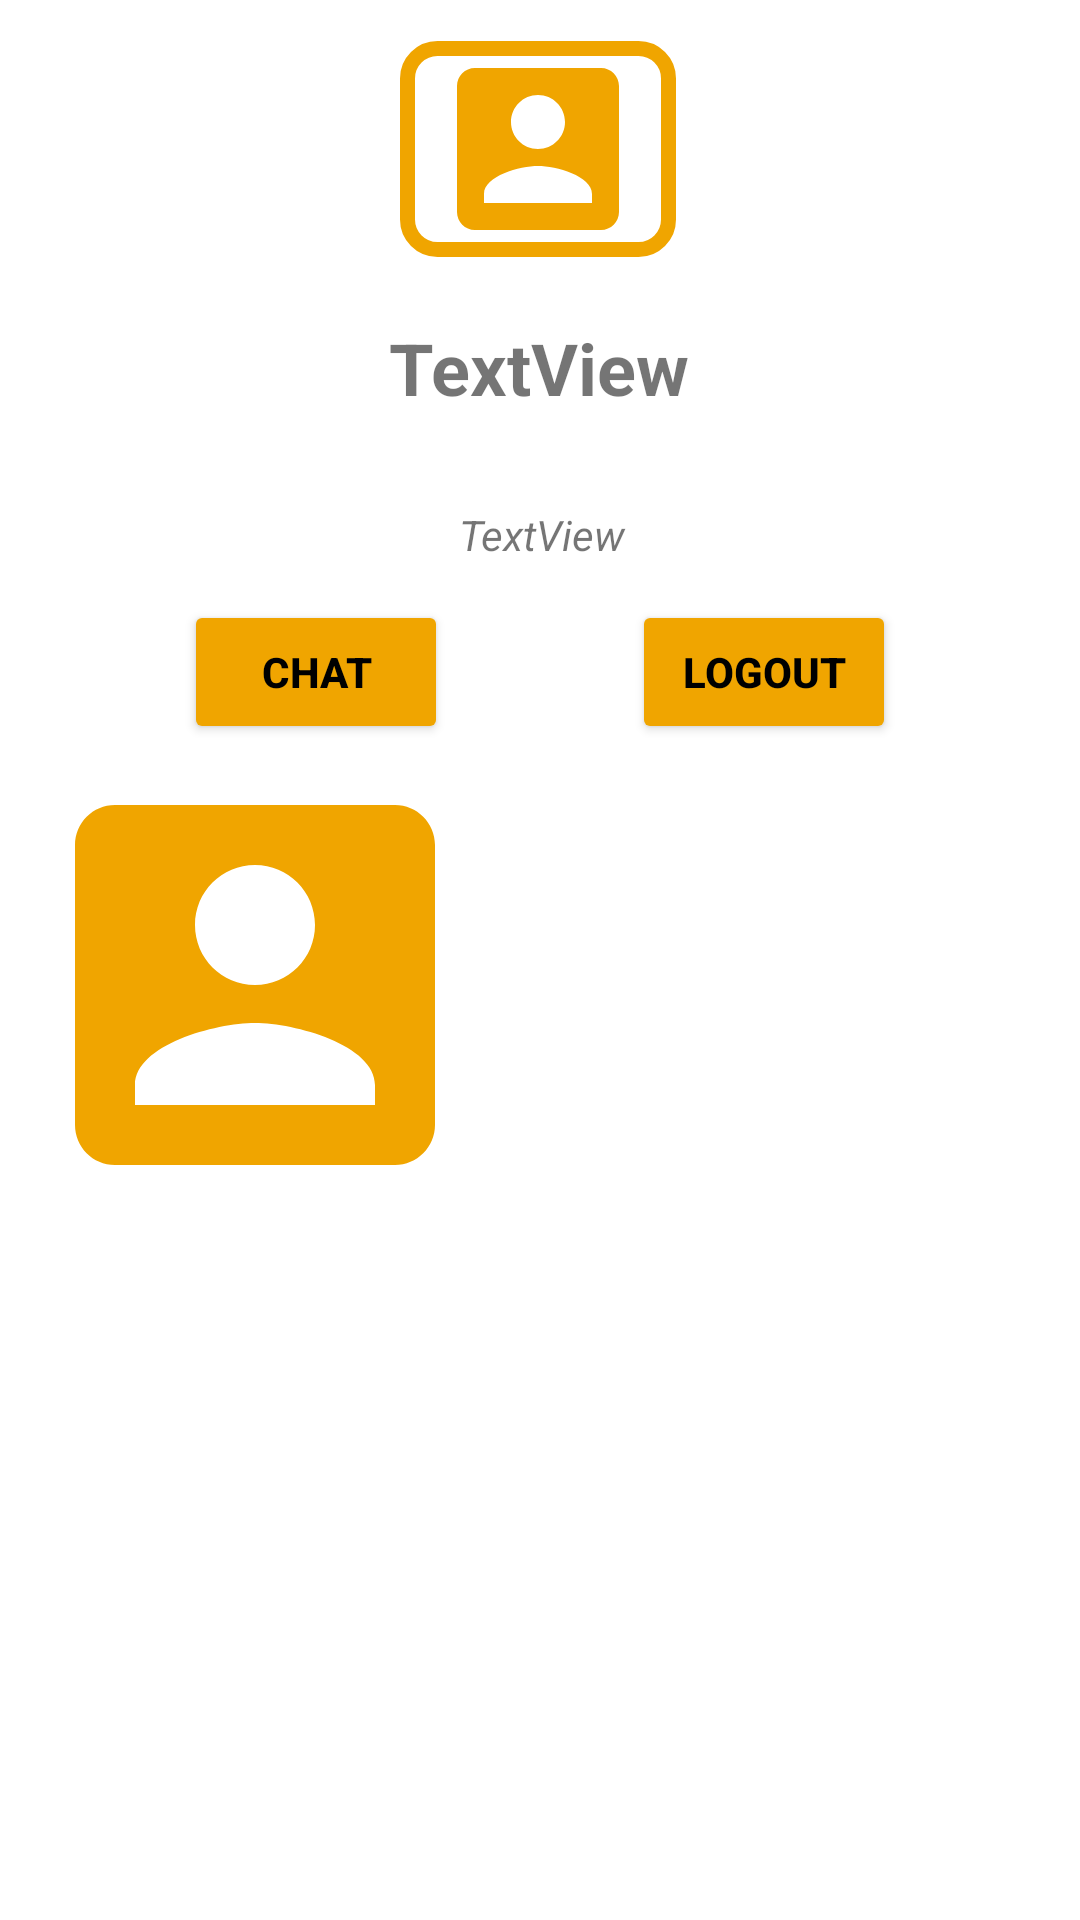

Screen size 1080 x 1920. Icon name, then its box in pixels as [x1=x1, y1=y1, x2=x2, y2=y2]:
account box: [x1=400, y1=41, x2=676, y2=257], [x1=75, y1=805, x2=435, y2=1165]
